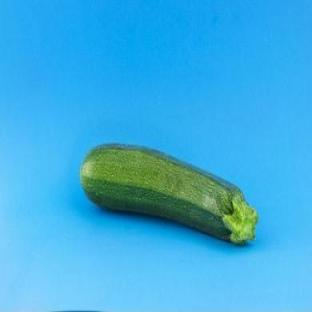Zucchini: (80, 144, 257, 243)
